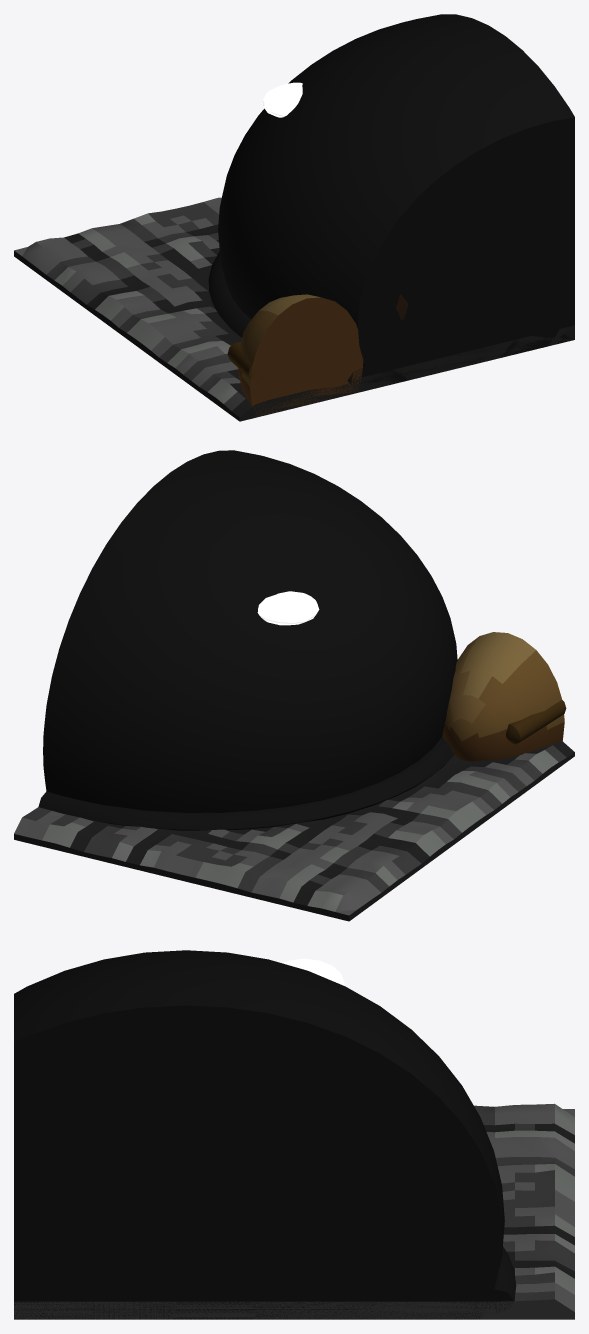
The model's file is claw_orb_tl.glb.
3 views of the same model, one above another, from view 1: azimuth 30°, elevation 25°; view 2: azimuth 150°, elevation 25°; view 3: azimuth 270°, elevation 25° (orthographic). The views are drawn at different scales.
Visible parts, largest first — view 1: orb, floor, shoulder-1, orb_socket, glint; view 2: orb, floor, shoulder-1, orb_socket, glint, shoulder_rim-1; view 3: orb, floor, orb_socket, glint.
Boxes of the visible parts, x1,y1,x2,y2 form: orb: [218, 14, 574, 387]; floor: [14, 197, 574, 421]; shoulder-1: [238, 294, 363, 417]; orb_socket: [208, 251, 385, 386]; glint: [261, 82, 302, 117]; orb: [43, 450, 457, 812]; floor: [14, 741, 574, 921]; shoulder-1: [442, 632, 564, 761]; orb_socket: [38, 736, 454, 830]; glint: [257, 591, 319, 625]; shoulder_rim-1: [506, 700, 566, 744]; orb: [14, 950, 504, 1319]; floor: [14, 1103, 574, 1319]; orb_socket: [469, 1247, 516, 1312]; glint: [282, 958, 344, 985].
Bounding box in the file's own units: 24 × 17.4 × 28.
